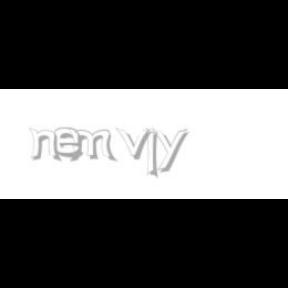e: (55, 128, 88, 158)
l: (146, 128, 162, 180)
m: (66, 128, 118, 162)
n: (28, 128, 62, 162)
v: (115, 128, 155, 160)
y: (152, 128, 192, 172)
